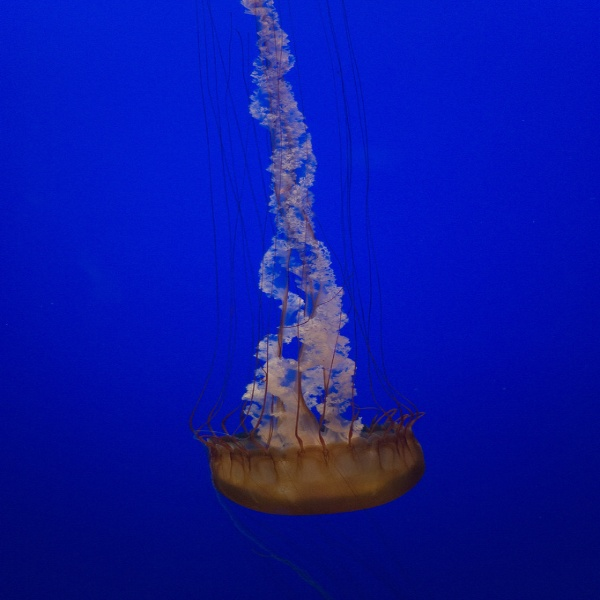Jellyfish: (193, 35, 430, 561)
